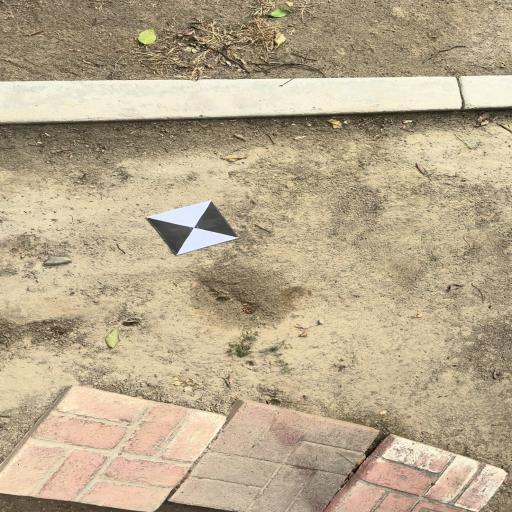target: (147, 201, 240, 252)
